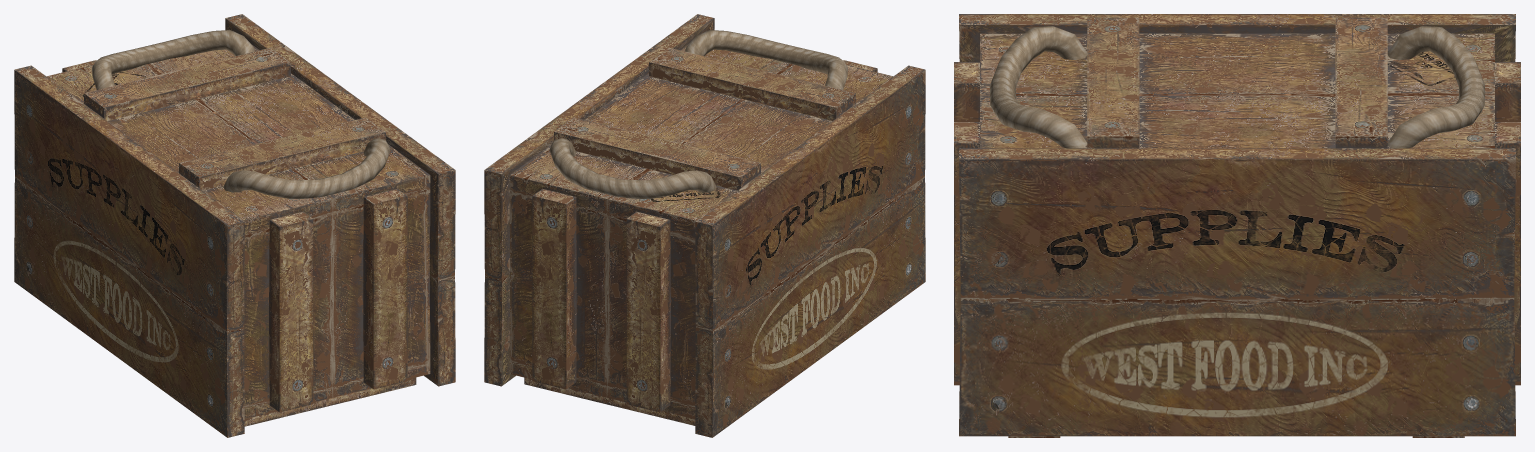
File: SM_Supply_Box.FBX
3 renders of one model, left to right at view 1: azimuth 30°, elevation 25°; view 2: azimuth 150°, elevation 25°; view 3: azimuth 270°, elevation 25°, orthographic. The views are drawn at different scales.
Visible parts, largest first — view 1: Supply_Box; view 2: Supply_Box; view 3: Supply_Box.
Boxes of the visible parts, box(x1,y1,x2,y2) form: Supply_Box: box(14, 14, 455, 437); Supply_Box: box(484, 14, 925, 437); Supply_Box: box(954, 14, 1520, 437).
Size of what is drawn, in the model's own units: 66.21 by 66.84 by 109.
Materials: 1 (1 with a texture image).
